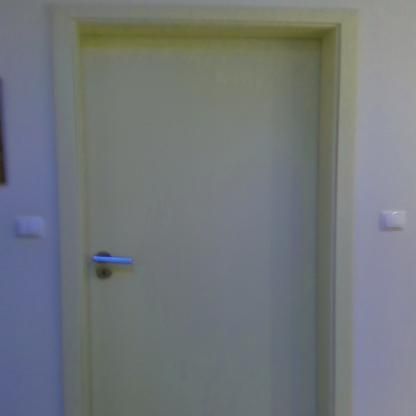door: (80, 34, 324, 416)
lever: (91, 252, 138, 268)
